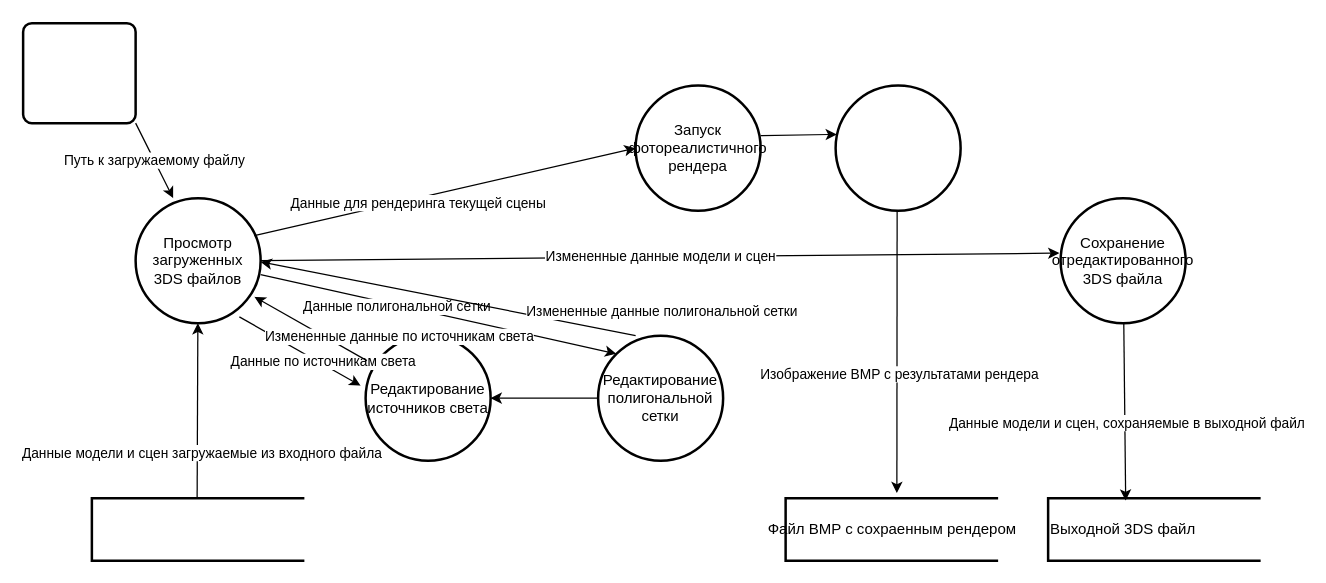
The diagram is 1326 pixels wide and 583 high, and some of its shapes have lost their labels. Each missing label, with the centre of its shape:
Входной 3DS файл: the point at 197,528
Пользователь: the point at 78,72
Сохранение результата рендера: the point at 897,147
